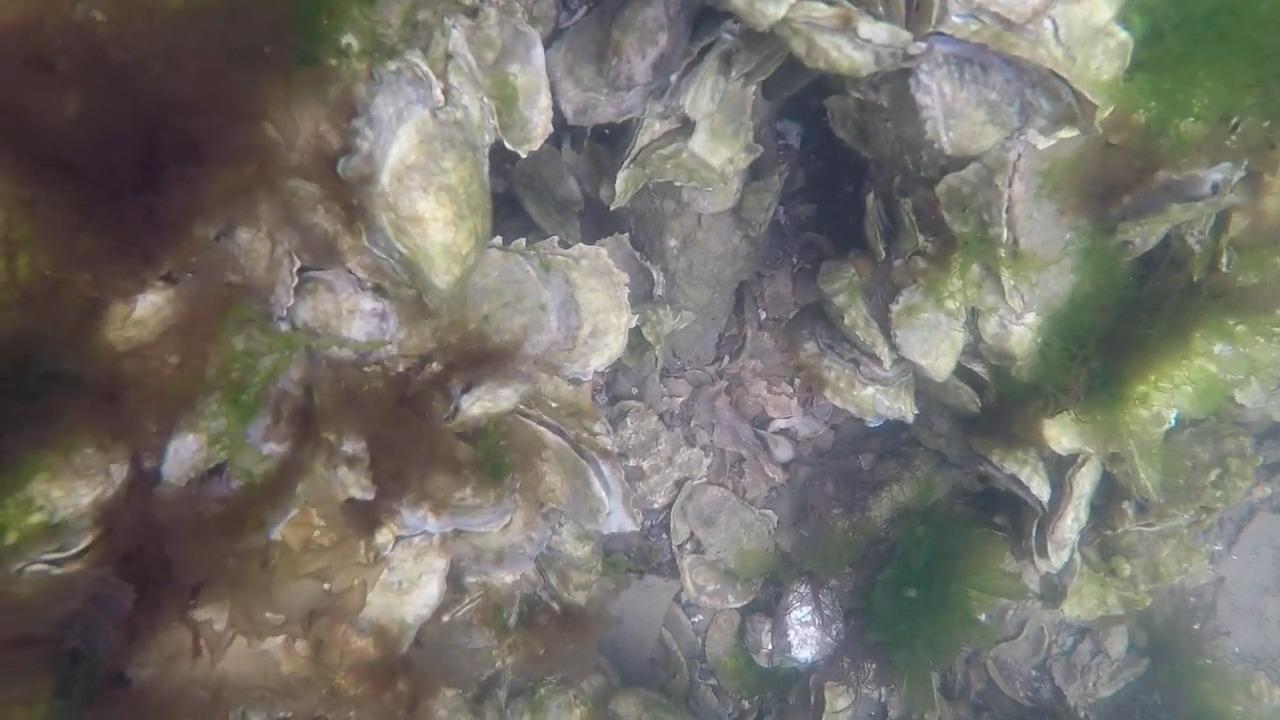Oyster: (901, 123, 1108, 384), (827, 30, 1097, 213), (385, 388, 614, 594), (337, 58, 491, 308), (434, 236, 636, 404), (623, 178, 768, 368), (612, 48, 761, 222), (458, 232, 626, 380), (934, 2, 1129, 112), (1, 438, 130, 575), (546, 3, 680, 133), (1102, 155, 1258, 266), (746, 2, 914, 83), (794, 324, 918, 429), (280, 258, 407, 358), (885, 265, 976, 388), (811, 258, 902, 378), (1032, 451, 1103, 578), (1047, 622, 1146, 713), (508, 139, 591, 247), (824, 85, 915, 178), (979, 611, 1063, 702), (982, 440, 1055, 523)
